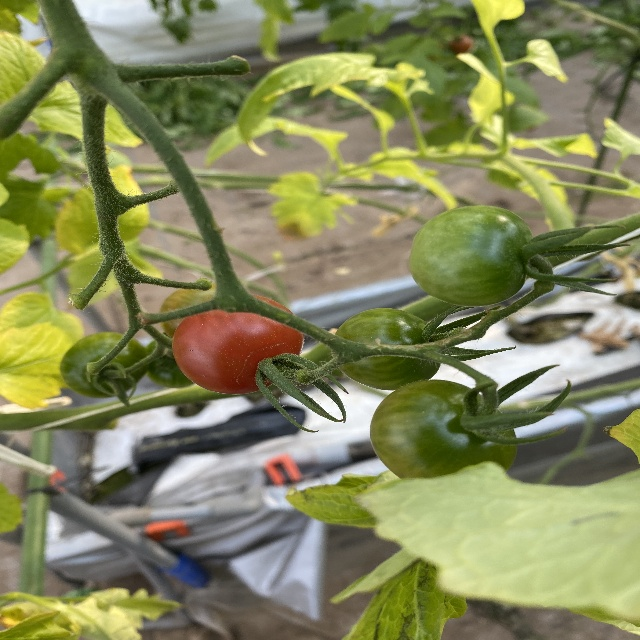l_fully_ripened: (171, 295, 305, 396)
l_green: (370, 380, 517, 480), (407, 205, 534, 307), (333, 308, 441, 391)
